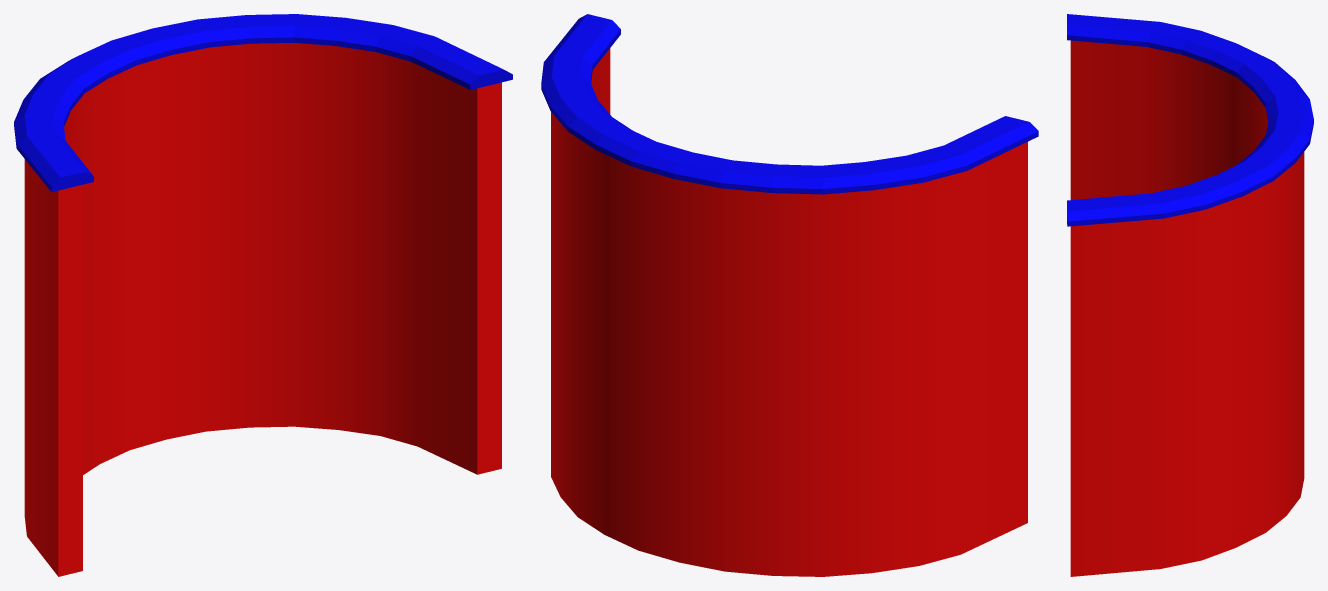
The picture shows the model from 3 angles, left to right: view 1: azimuth 30°, elevation 25°; view 2: azimuth 150°, elevation 25°; view 3: azimuth 270°, elevation 25°; orthographic projection. The views are drawn at different scales.
Parts seen in each view (by area): view 1: SM_360Lx20x310H_B; view 2: SM_360Lx20x310H_B; view 3: SM_360Lx20x310H_B.
Part boxes in pixels (left/top/right/bottom): SM_360Lx20x310H_B: left=14, top=14, right=512, bottom=576; SM_360Lx20x310H_B: left=541, top=14, right=1038, bottom=576; SM_360Lx20x310H_B: left=1067, top=14, right=1313, bottom=576.
Bounding box in the file's own units: 374 × 311 × 190.
